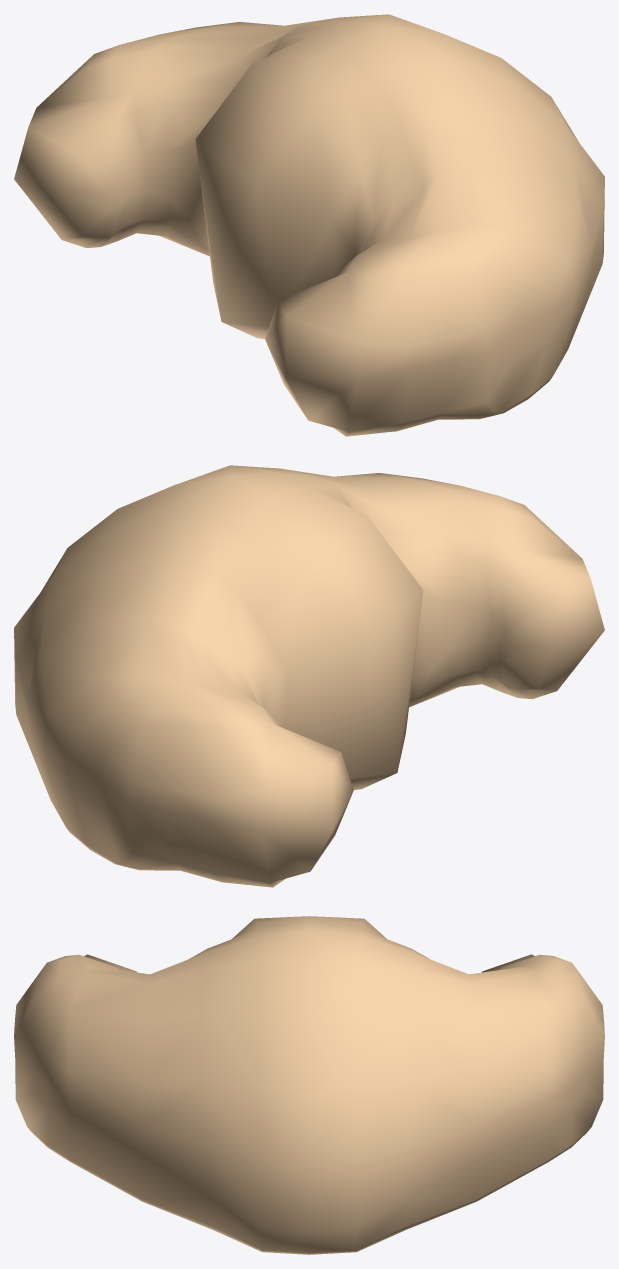
The model's file is Croissant.fbx.
The picture shows the model from 3 angles, top to bottom: view 1: azimuth 30°, elevation 25°; view 2: azimuth 150°, elevation 25°; view 3: azimuth 270°, elevation 25°; orthographic projection. The views are drawn at different scales.
Visible parts, largest first — view 1: Croissant; view 2: Croissant; view 3: Croissant.
Boxes of the visible parts, x1,y1,x2,y2 form: Croissant: (14,14,604,436); Croissant: (14,465,604,887); Croissant: (14,916,604,1254).
Size of the model in its own units: 30.73 by 19.89 by 42.02.
